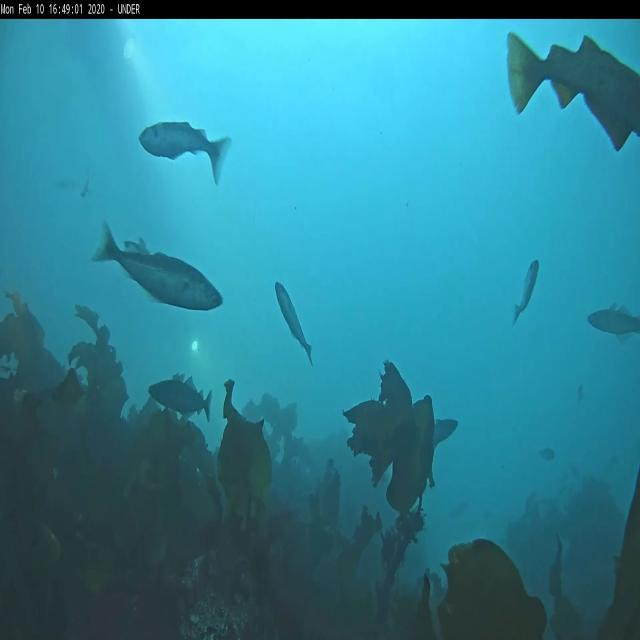fish: (506, 32, 638, 152), (93, 223, 222, 309), (141, 119, 232, 187), (147, 374, 213, 424), (275, 281, 314, 365), (586, 303, 640, 340), (512, 261, 541, 328), (432, 415, 458, 448), (538, 442, 554, 462)
